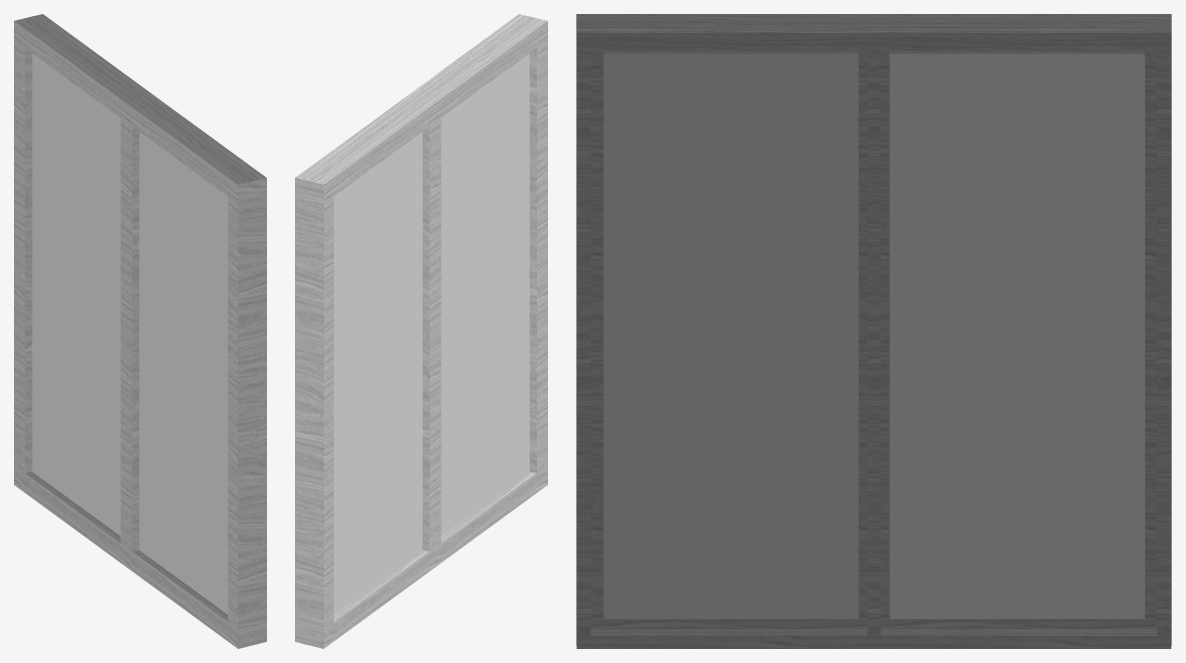
The model's file is Window_b20211e5.obj.
3 views of the same model, side by side, from view 1: azimuth 30°, elevation 25°; view 2: azimuth 150°, elevation 25°; view 3: azimuth 270°, elevation 25° (orthographic). The views are drawn at different scales.
Visible parts, largest first — view 1: FP307:StandardWindowPane1_a95cf59f, FP307:StandardWindow1_2ba3e7c8; view 2: FP307:StandardWindowPane1_a95cf59f, FP307:StandardWindow1_2ba3e7c8; view 3: QuadDecalSpawnPlane_4f488848, QuadDecalSpawnPlane_(1)_6e839294, FP307:StandardWindow1_2ba3e7c8, FP307:StandardWindowPane1_a95cf59f.
Part boxes in pixels (x1,y1,x2,y2): FP307:StandardWindowPane1_a95cf59f: (32, 53, 227, 614); FP307:StandardWindow1_2ba3e7c8: (14, 14, 266, 648); FP307:StandardWindowPane1_a95cf59f: (334, 53, 529, 614); FP307:StandardWindow1_2ba3e7c8: (295, 14, 547, 648); QuadDecalSpawnPlane_4f488848: (603, 54, 858, 618); QuadDecalSpawnPlane_(1)_6e839294: (890, 54, 1144, 618); FP307:StandardWindow1_2ba3e7c8: (576, 14, 1171, 648); FP307:StandardWindowPane1_a95cf59f: (604, 51, 1143, 611).
Size of the model in its own units: 0.078 by 1.2 by 1.05.
